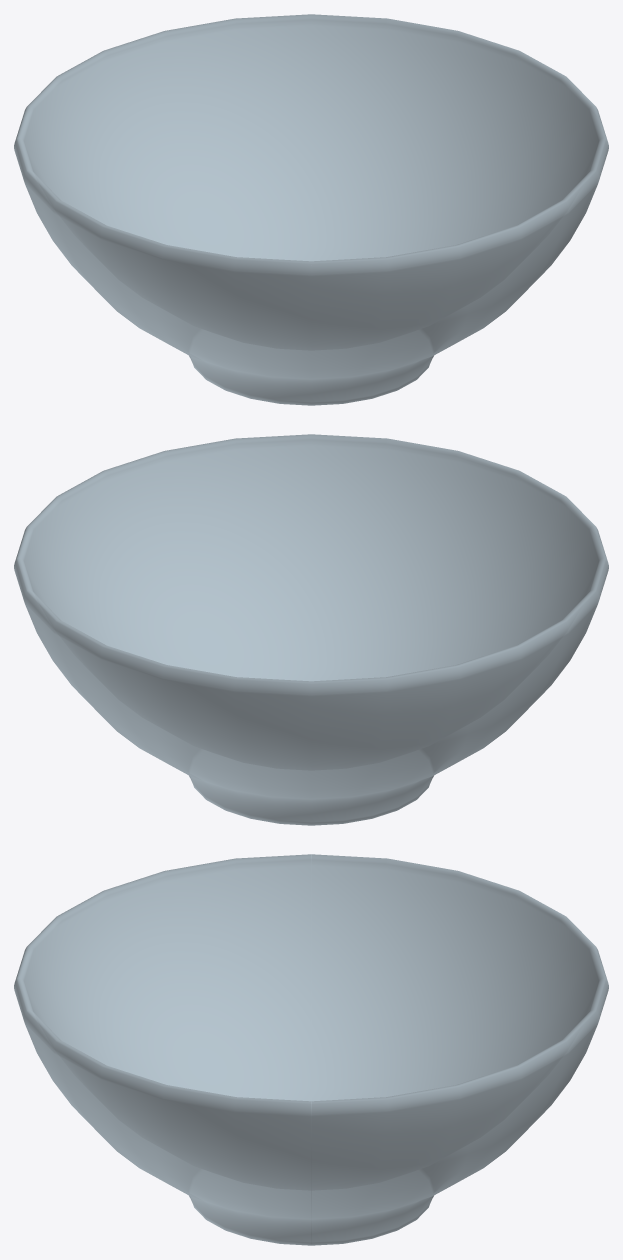
File: bowl_06_origin.dae
3 renders of one model, top to bottom at view 1: azimuth 30°, elevation 25°; view 2: azimuth 150°, elevation 25°; view 3: azimuth 270°, elevation 25°, orthographic.
Visible parts, largest first — view 1: group_0; view 2: group_0; view 3: group_0.
Part boxes in pixels (<box>): group_0: <box>14,14,608,405</box>; group_0: <box>14,434,608,825</box>; group_0: <box>14,854,608,1245</box>.
Size of the model in its own units: 6.17 by 6.17 by 2.47.
